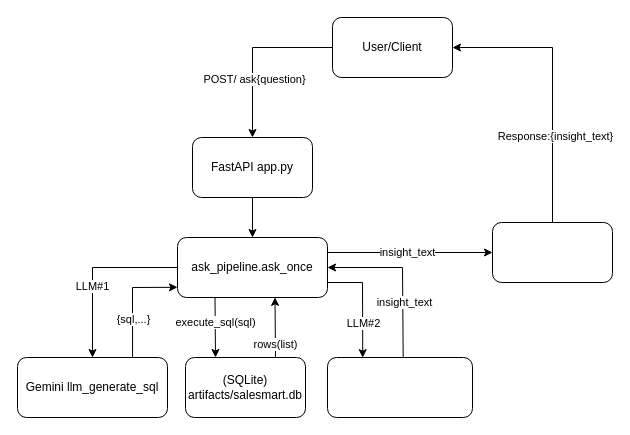
The diagram is 630 pixels wide and 435 high, and some of its shapes have lost their labels. The centre of each missing label's shape, as x and y in pixels:
FastAPI: the point at 552,252
Gemini llm_make_insight(intent, params, answer_table): the point at 399,387
